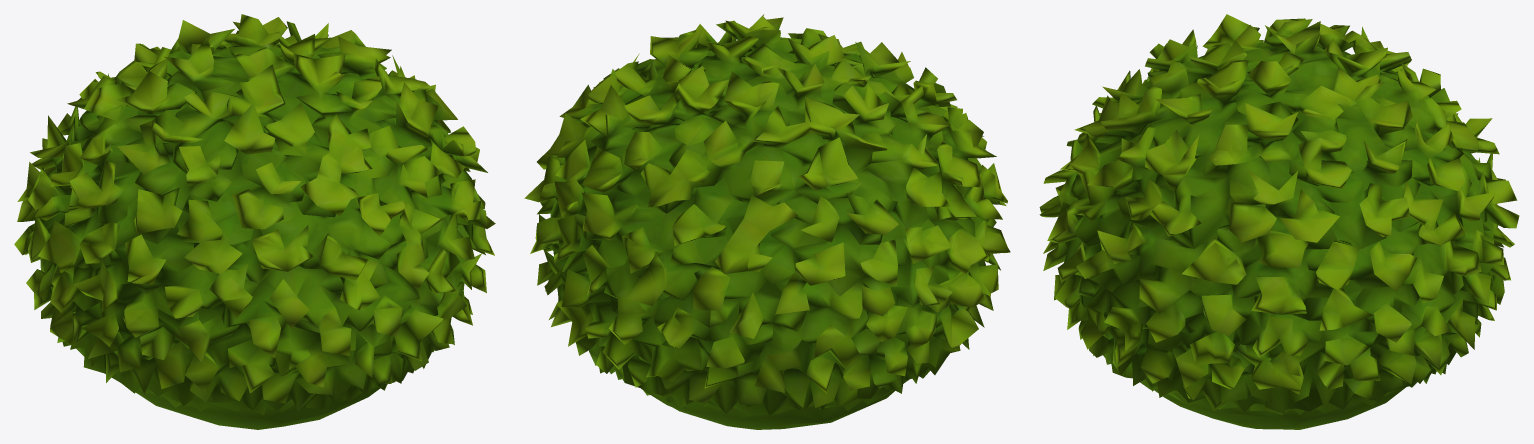
The model's file is bush.glb.
3 renders of one model, left to right at view 1: azimuth 30°, elevation 25°; view 2: azimuth 150°, elevation 25°; view 3: azimuth 270°, elevation 25°, orthographic.
Parts seen in each view (by area): view 1: bush-node; view 2: bush-node; view 3: bush-node.
Part boxes in pixels (<box>): bush-node: <box>14,14,495,429</box>; bush-node: <box>524,14,1010,429</box>; bush-node: <box>1039,14,1519,429</box>.
Bounding box in the file's own units: 1.19 × 1 × 1.2.
1 material, 1 textured.
